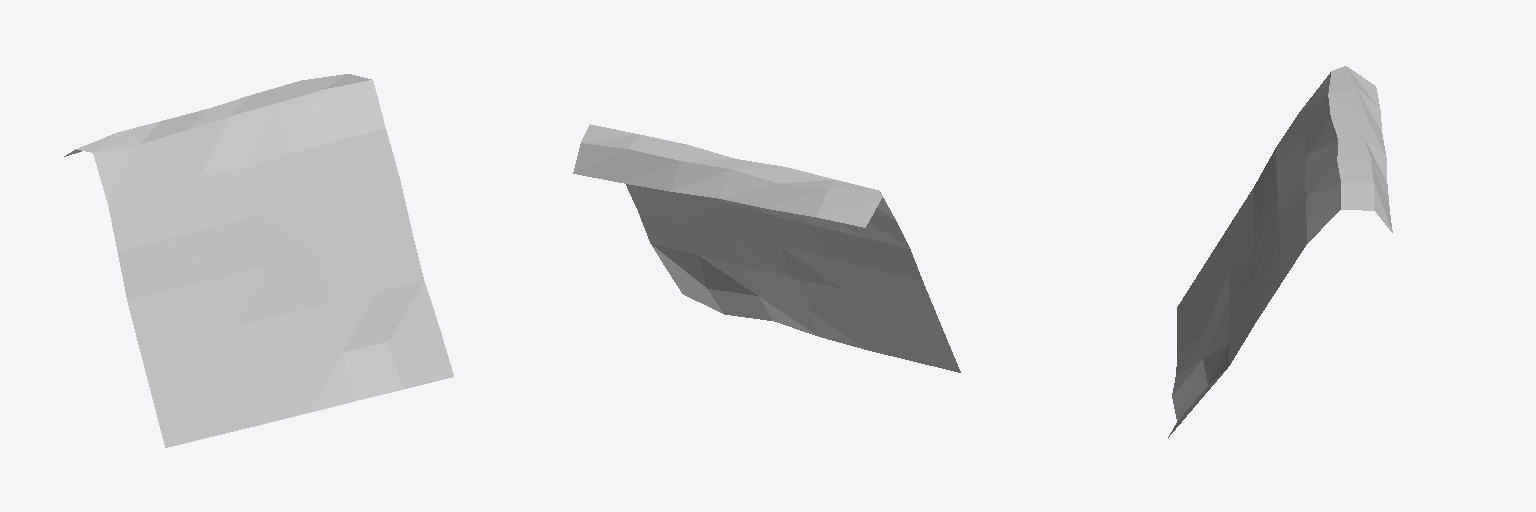
Rendered from sticky note.obj.
The picture shows the model from 3 angles: view 1: azimuth 30°, elevation 25°; view 2: azimuth 150°, elevation 25°; view 3: azimuth 270°, elevation 25°; orthographic projection.
Visible parts, largest first — view 1: Plane; view 2: Plane; view 3: Plane.
Part boxes in pixels (bbox=[...]): Plane: bbox=[64, 74, 453, 447]; Plane: bbox=[573, 124, 960, 372]; Plane: bbox=[1168, 66, 1392, 437].
Size of the model in its own units: 0.2463 by 0.1917 by 0.1634.